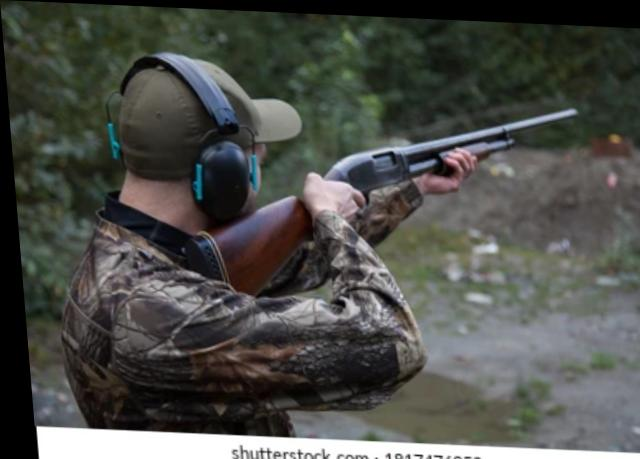other: (54, 44, 391, 427)
